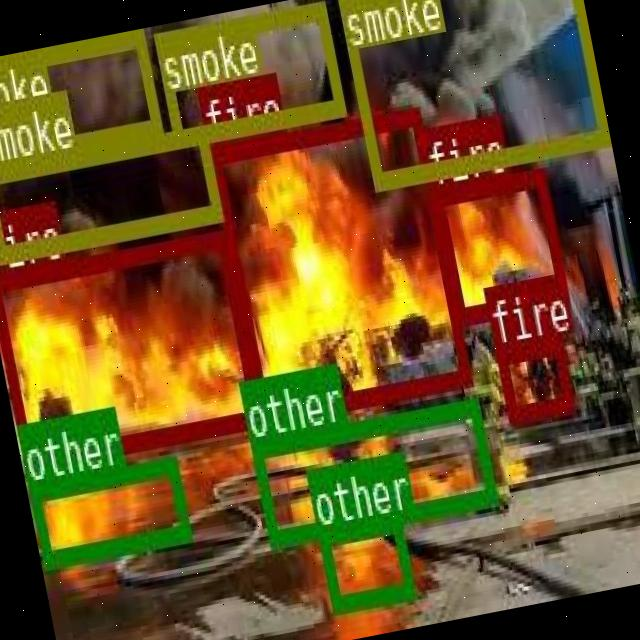fire: (206, 105, 469, 422), (0, 229, 260, 468), (430, 166, 567, 322), (494, 333, 572, 420)
smoke: (336, 0, 606, 185), (0, 121, 221, 259), (152, 2, 344, 142), (0, 29, 159, 171)
